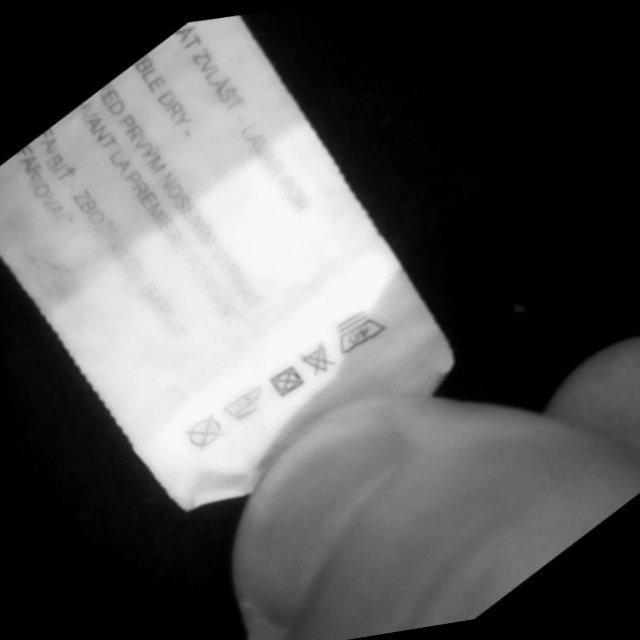40C: (331, 305, 393, 358)
DN_bleach: (301, 342, 337, 377)
DN_dry_clean: (184, 410, 228, 452)
DN_tumble_dry: (268, 362, 308, 400)
iron_low: (223, 381, 271, 423)
